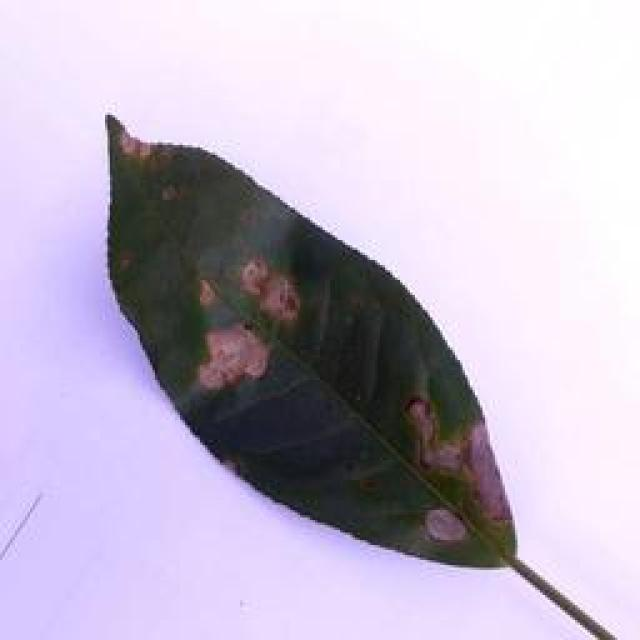Gray Blight: (94, 111, 525, 567)
